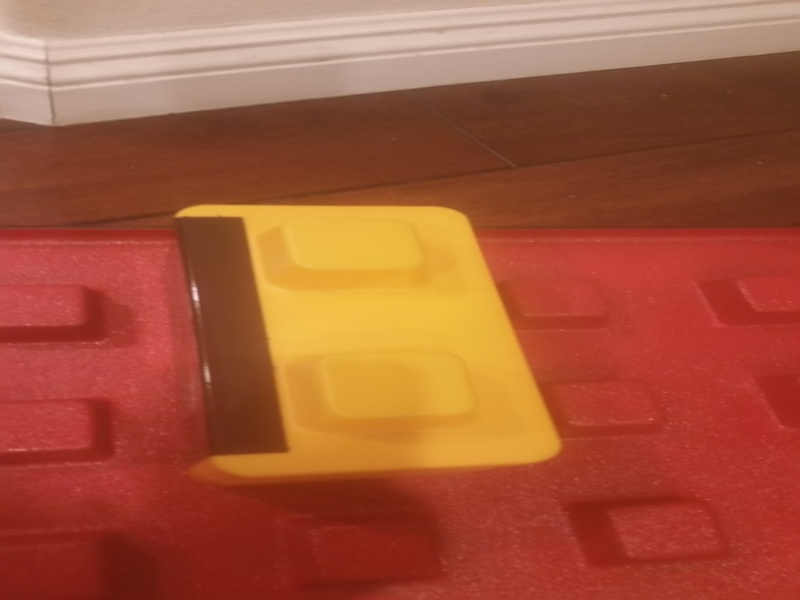Skystone: (152, 200, 565, 501)
